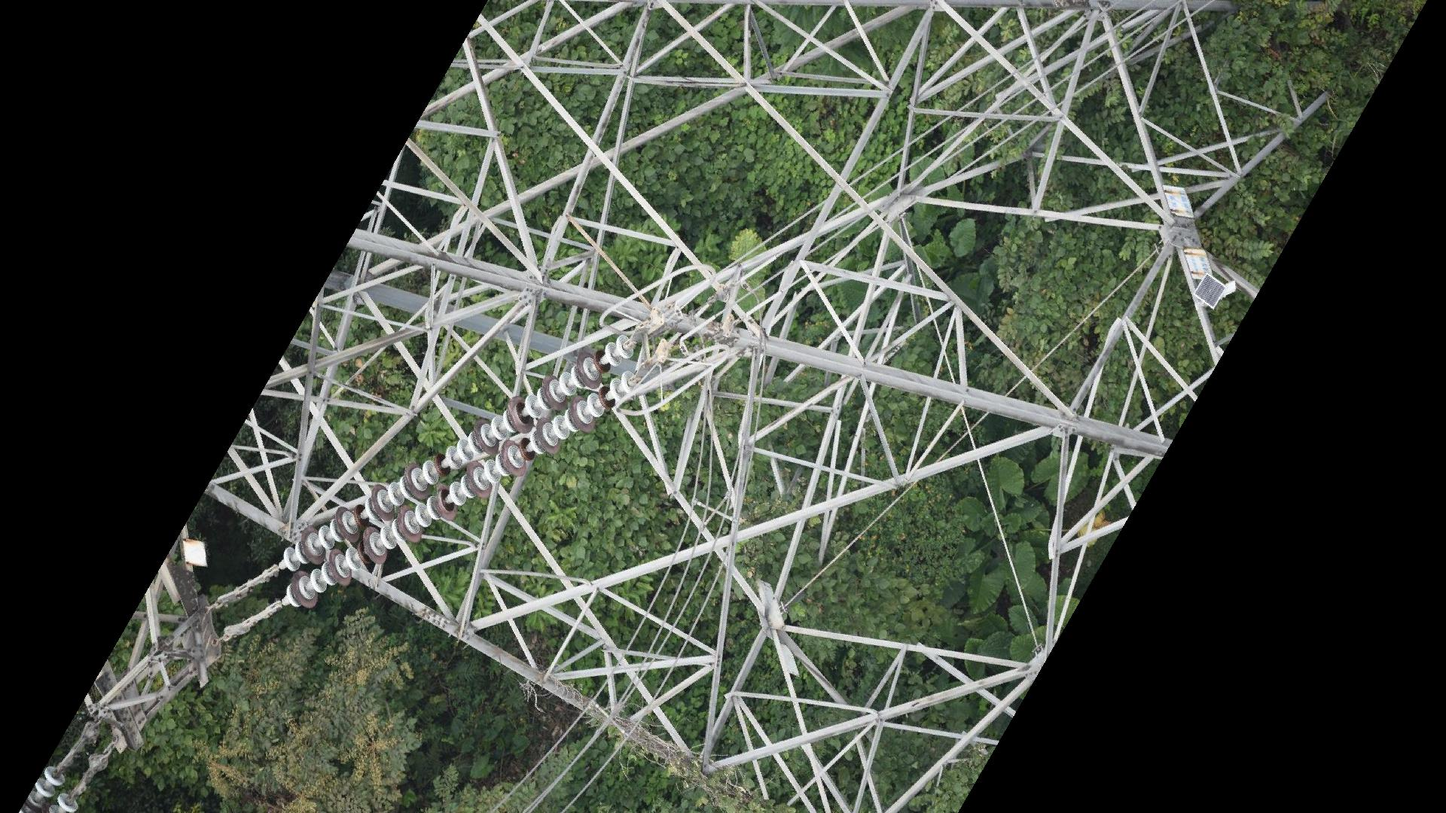insulator: (279, 330, 645, 612), (26, 755, 86, 813)
